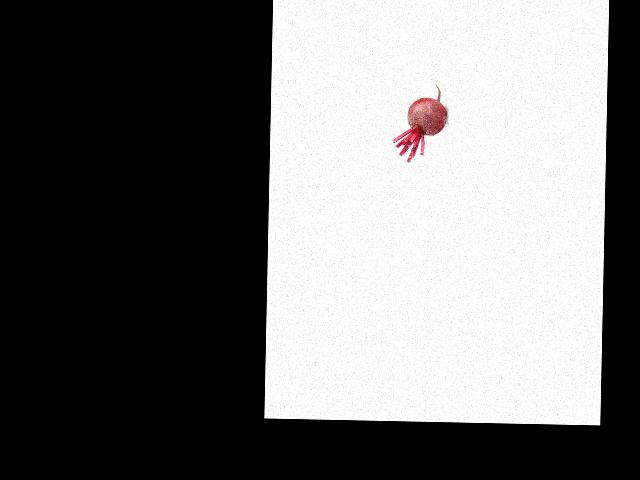beet: (392, 83, 447, 163)
